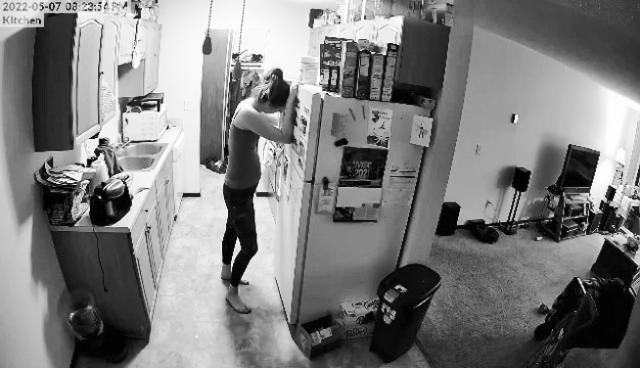berdiri: (218, 63, 296, 321)
